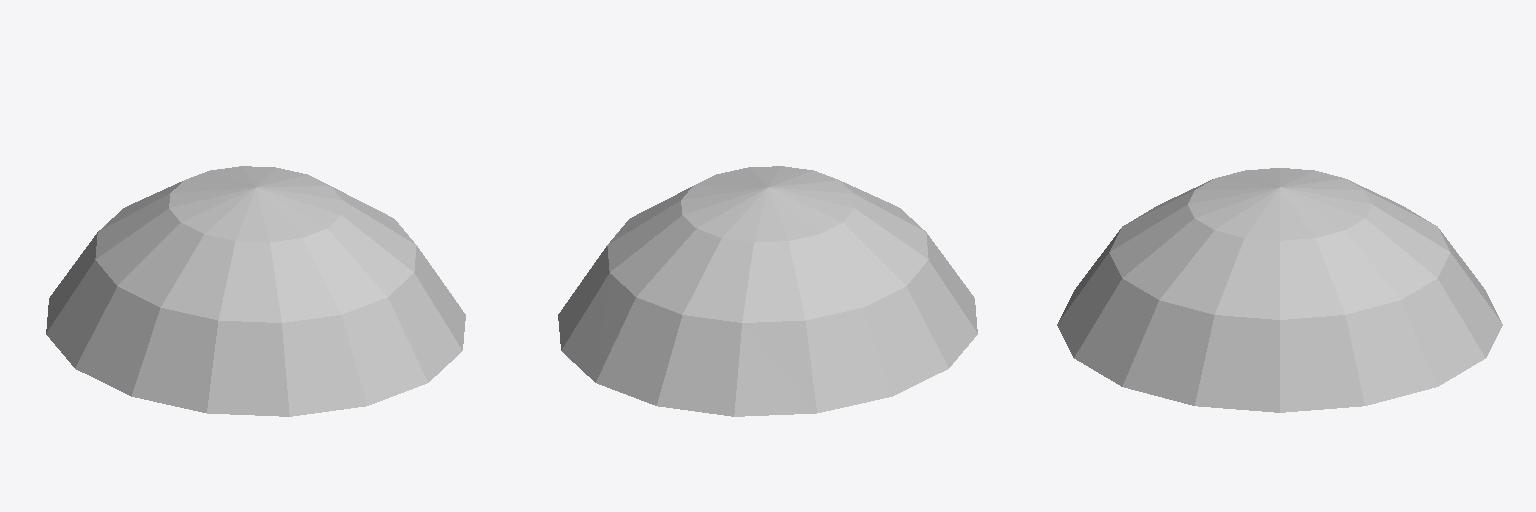
File: cap.obj
3 renders of one model, left to right at view 1: azimuth 30°, elevation 25°; view 2: azimuth 150°, elevation 25°; view 3: azimuth 270°, elevation 25°, orthographic.
Visible parts, largest first — view 1: sphere.001; view 2: sphere.001; view 3: sphere.001.
Boxes of the visible parts, x1,y1,x2,y2 form: sphere.001: [46, 166, 465, 416]; sphere.001: [558, 166, 977, 416]; sphere.001: [1057, 168, 1502, 412].
Size of the model in its own units: 0.537 by 0.1944 by 0.5729.